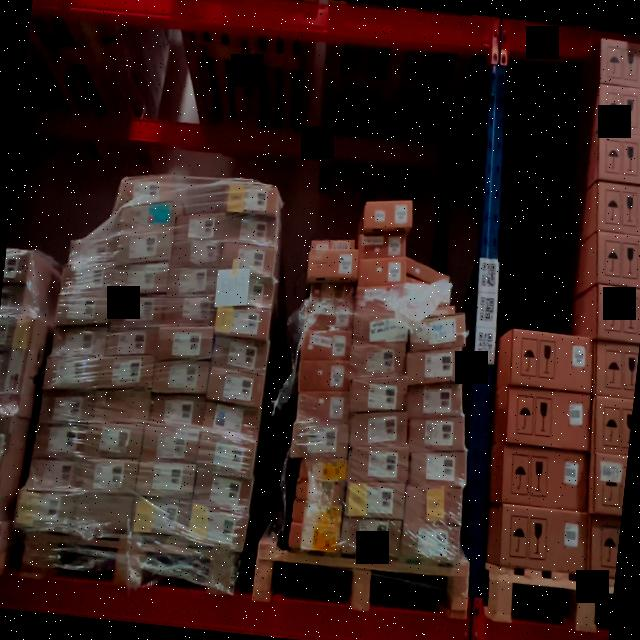box: (494, 504, 594, 574), (508, 328, 598, 394), (500, 446, 590, 512), (503, 388, 594, 452), (0, 312, 37, 414), (187, 508, 247, 552), (405, 484, 465, 527), (594, 287, 640, 343), (346, 478, 407, 520), (78, 456, 140, 497), (594, 183, 640, 238), (16, 492, 76, 534), (193, 472, 253, 514), (197, 436, 257, 478), (407, 308, 465, 351), (592, 342, 638, 396), (340, 518, 402, 558), (400, 524, 462, 564), (75, 496, 134, 538), (409, 412, 468, 454), (137, 460, 197, 501), (350, 410, 410, 451), (348, 446, 409, 486), (113, 226, 174, 266), (290, 422, 348, 464), (134, 498, 192, 540), (406, 344, 464, 386), (142, 425, 202, 465), (216, 270, 276, 310), (404, 380, 464, 420), (595, 234, 640, 287), (351, 374, 410, 414), (411, 447, 468, 488), (202, 400, 260, 440), (206, 368, 264, 408), (592, 400, 633, 456), (596, 134, 640, 186), (352, 308, 409, 348), (349, 340, 406, 380), (214, 303, 272, 342), (87, 422, 143, 462), (597, 39, 640, 91), (592, 454, 628, 516), (158, 323, 215, 362), (153, 359, 210, 398), (111, 260, 169, 298), (597, 86, 640, 137), (212, 336, 268, 375), (93, 388, 150, 426), (294, 390, 350, 428), (46, 356, 100, 395), (56, 291, 111, 329), (150, 394, 206, 431), (101, 354, 154, 393), (587, 517, 621, 577), (110, 292, 164, 329), (220, 240, 278, 274), (118, 200, 176, 234), (34, 422, 87, 459), (120, 173, 176, 208), (52, 326, 107, 361), (162, 292, 215, 328), (41, 389, 92, 426), (28, 456, 80, 492), (363, 196, 412, 234), (296, 358, 349, 393), (61, 260, 112, 296), (222, 212, 277, 245), (226, 180, 276, 216), (300, 327, 351, 362), (402, 282, 457, 314), (166, 263, 216, 298), (106, 326, 157, 360), (354, 282, 406, 314), (286, 524, 340, 554), (308, 247, 357, 280), (358, 255, 406, 287), (174, 236, 222, 268), (360, 228, 407, 260), (306, 278, 354, 308), (294, 456, 346, 483), (178, 211, 224, 241), (405, 259, 456, 286), (303, 306, 352, 334), (294, 479, 344, 506), (68, 235, 112, 265), (291, 502, 339, 528), (311, 237, 354, 254)
